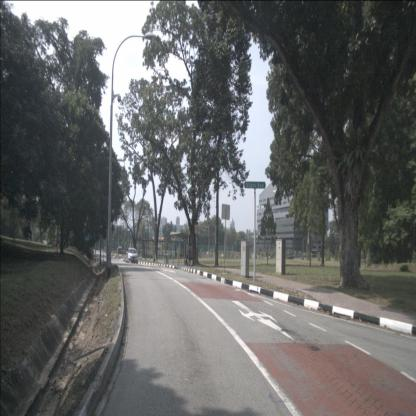human-pedestrian-adult: (186, 250, 190, 265)
vehicle-car: (126, 248, 138, 264)
